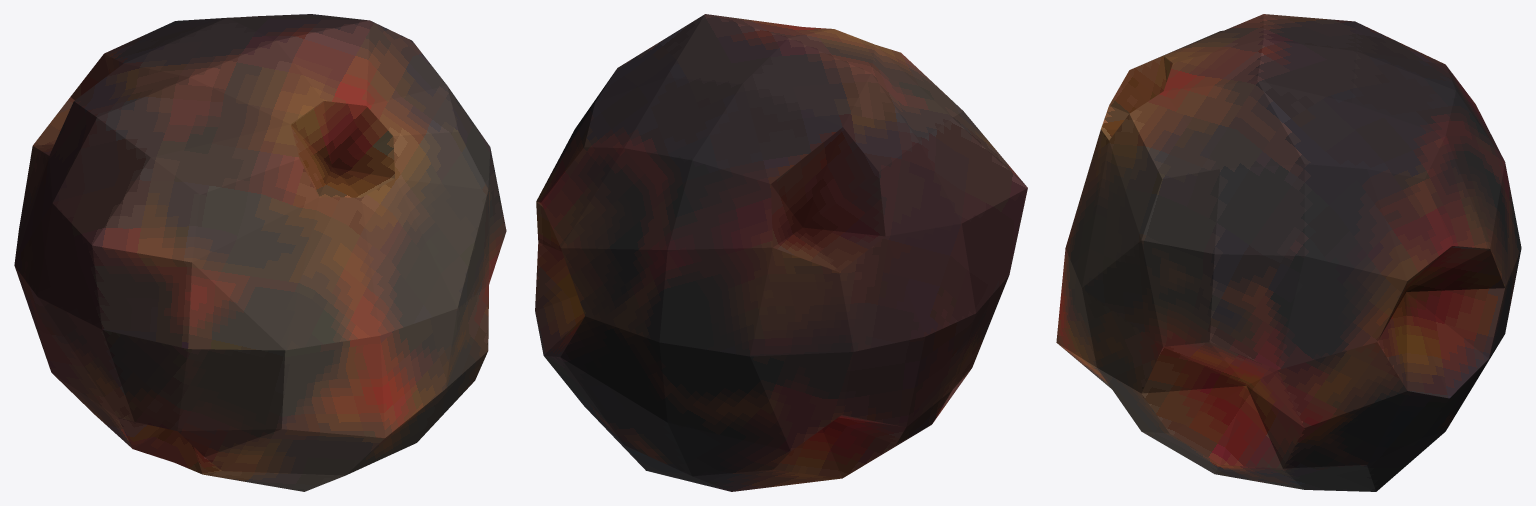
File: item_bait_magmar_ball.glb
The picture shows the model from 3 angles, left to right: view 1: azimuth 30°, elevation 25°; view 2: azimuth 150°, elevation 25°; view 3: azimuth 270°, elevation 25°; orthographic projection. The views are drawn at different scales.
Parts seen in each view (by area): view 1: Bait_MagmarBall; view 2: Bait_MagmarBall; view 3: Bait_MagmarBall.
Boxes of the visible parts, left/top/right/bottom form: Bait_MagmarBall: left=14, top=14, right=506, bottom=491; Bait_MagmarBall: left=535, top=14, right=1027, bottom=491; Bait_MagmarBall: left=1056, top=14, right=1521, bottom=491.
Bounding box in the file's own units: 0.1193 × 0.1186 × 0.1174.
Materials: 1 (1 with a texture image).
